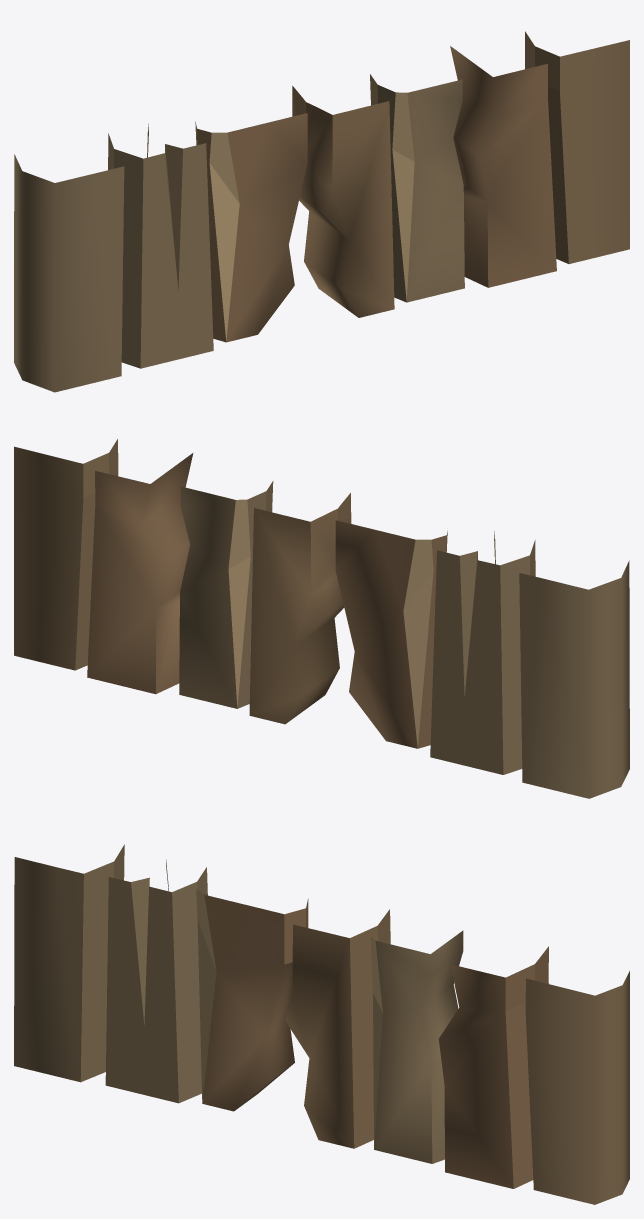
File: rpgpp_av_wall_02_3x1_b.gltf
The picture shows the model from 3 angles, top to bottom: view 1: azimuth 30°, elevation 25°; view 2: azimuth 150°, elevation 25°; view 3: azimuth 330°, elevation 25°; orthographic projection.
Visible parts, largest first — view 1: rpgpp_av_wall_02_3x1_b; view 2: rpgpp_av_wall_02_3x1_b; view 3: rpgpp_av_wall_02_3x1_b.
Part boxes in pixels (x1,y1,x2,y2): rpgpp_av_wall_02_3x1_b: (14,31,629,392); rpgpp_av_wall_02_3x1_b: (14,439,629,798); rpgpp_av_wall_02_3x1_b: (14,844,629,1204).
Bounding box in the file's own units: 0.03 × 0.01 × 0.00378.
Materials: 1 (1 with a texture image).
